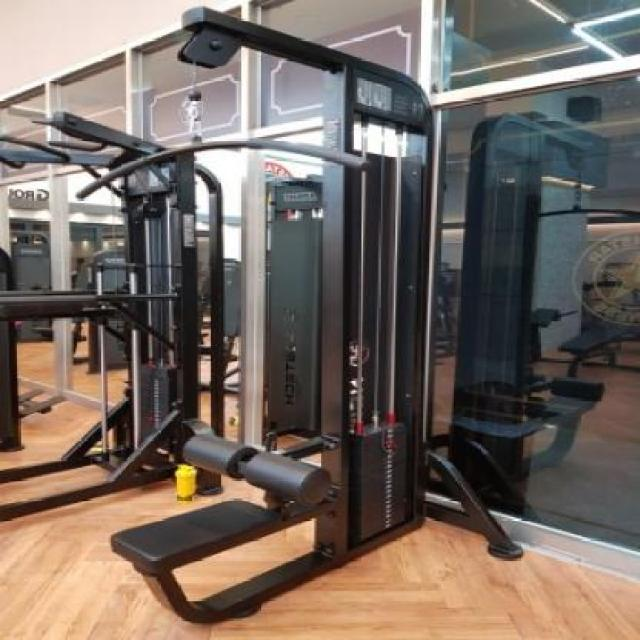Lat Pull Down: (49, 0, 546, 631)
